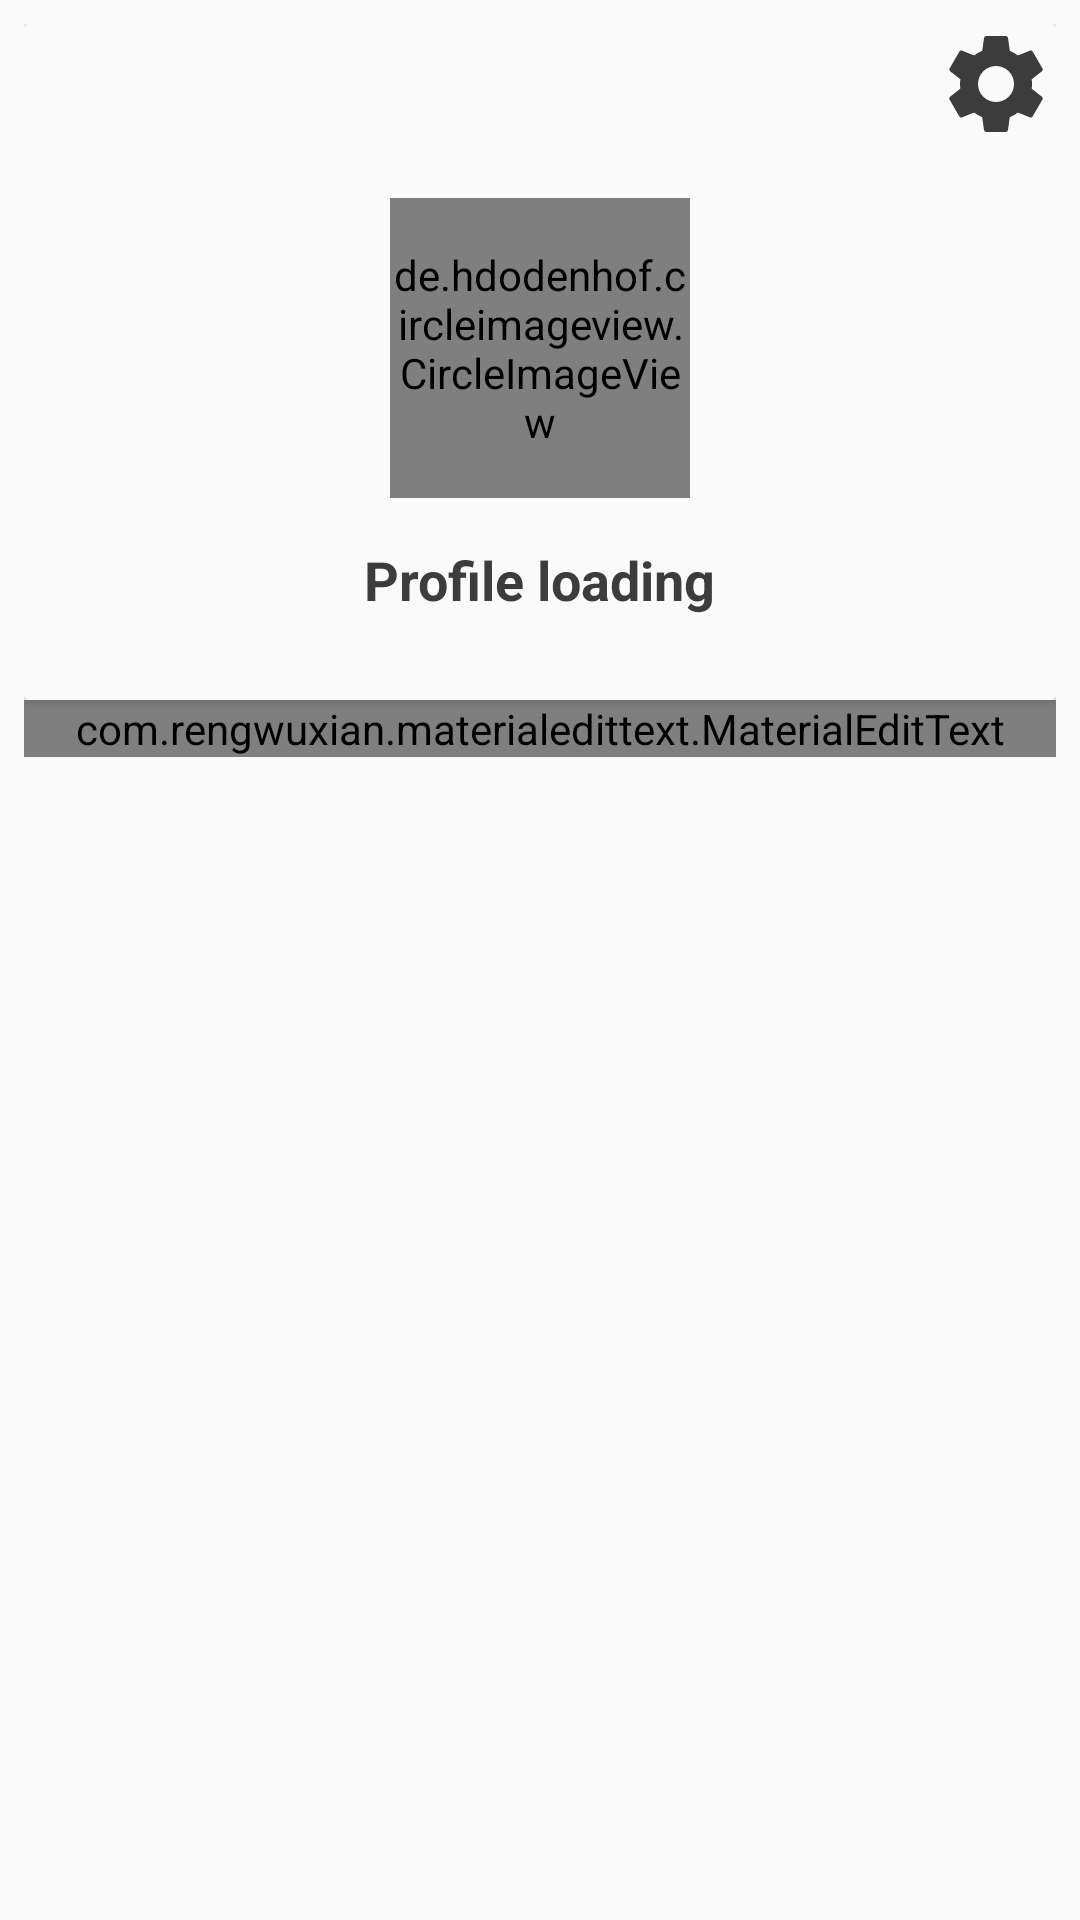

Named icons in this screenshot (1080px x 1920px) and their centers, (x,y):
settings: (1002,79)
